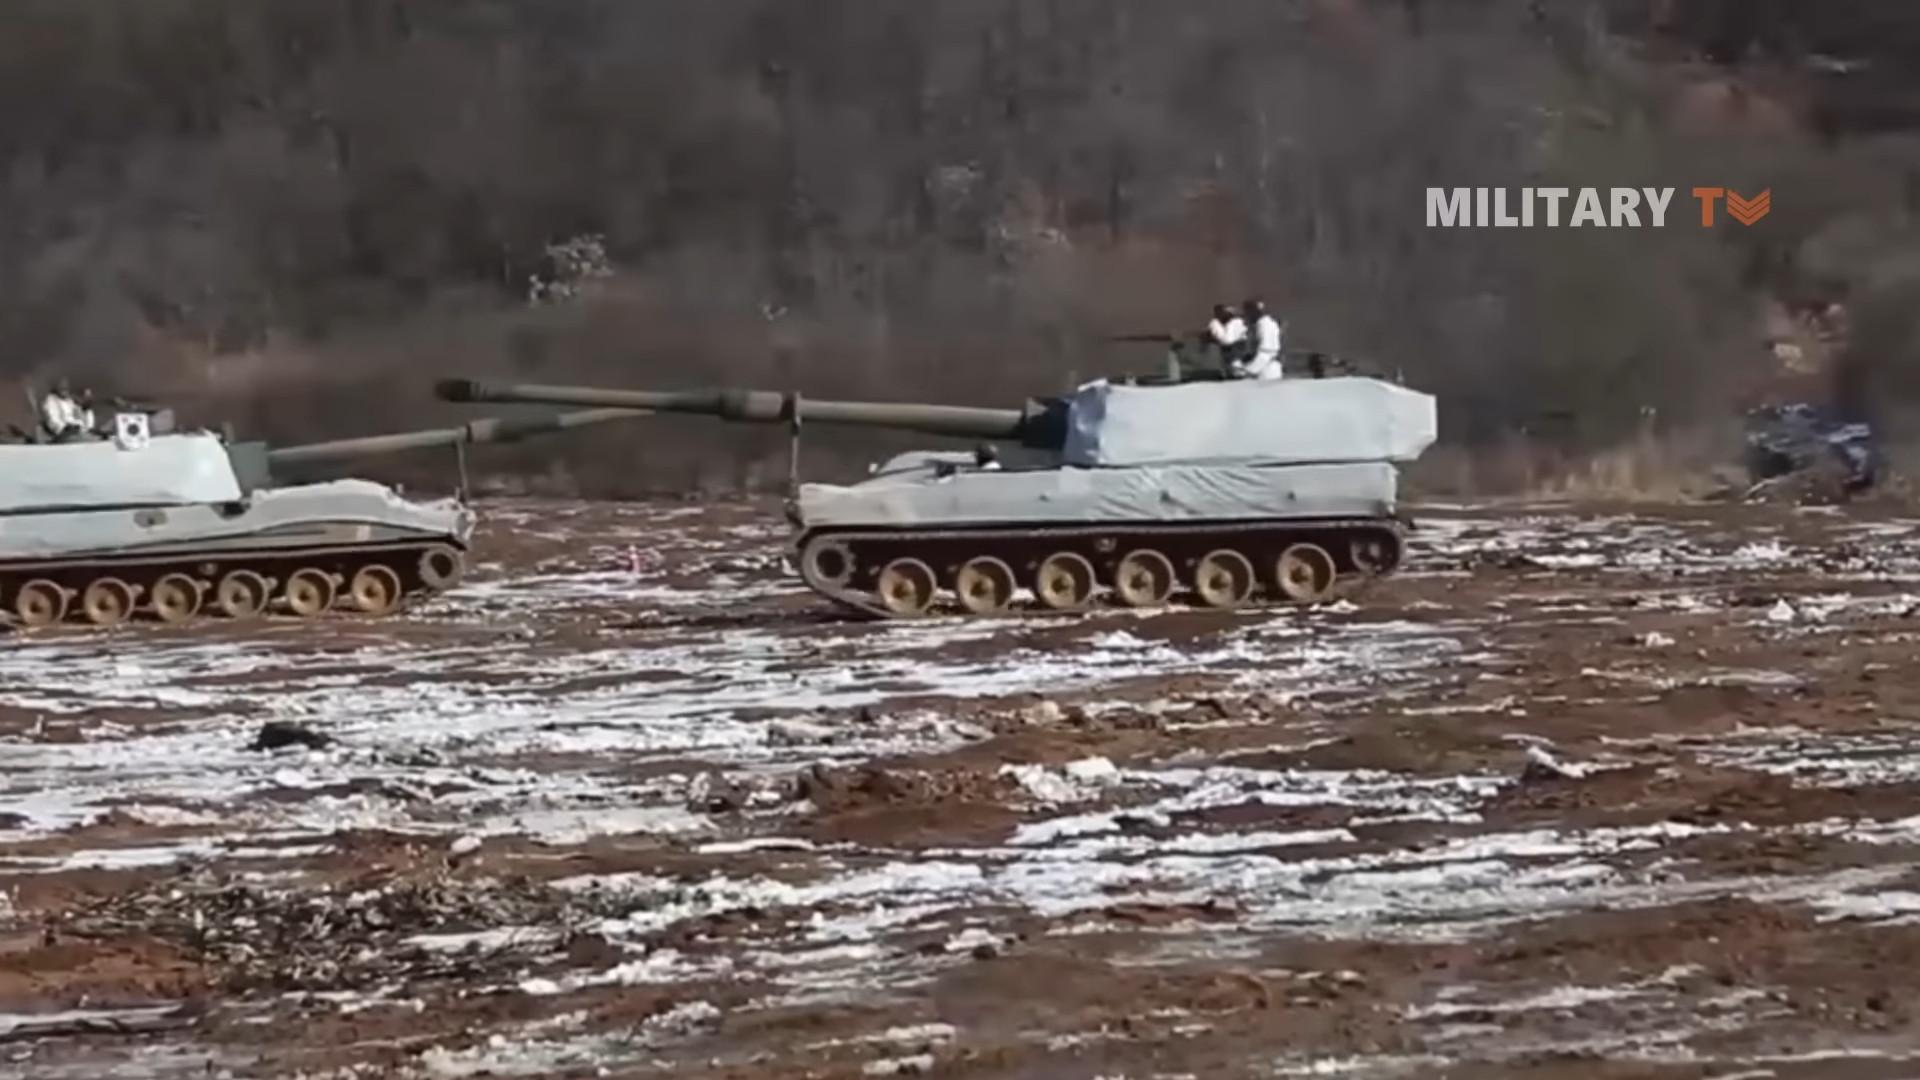tank: (440, 368, 1443, 621), (1, 404, 659, 626)
